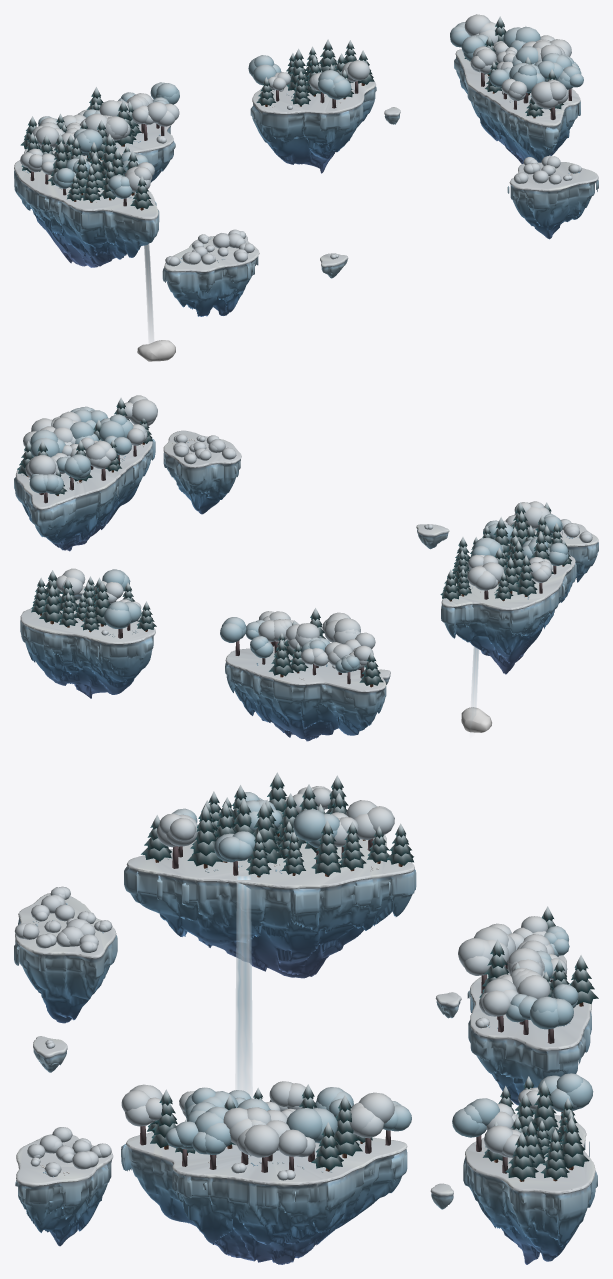
Rendered from icefloes.glb.
The picture shows the model from 3 angles, top to bottom: view 1: azimuth 30°, elevation 25°; view 2: azimuth 150°, elevation 25°; view 3: azimuth 270°, elevation 25°; orthographic projection. The views are drawn at different scales.
Visible parts, largest first — view 1: decor_leaves, decor_m06, decor_m01, decor_m07, decor_m03, decor_m04, decor_m00, decor_trunks, clouds, waterfall, decor_s00; view 2: decor_leaves, decor_m00, decor_m01, decor_m06, decor_m07, decor_m04, decor_m03, decor_trunks, clouds, decor_s00; view 3: decor_leaves, decor_m06, decor_m07, decor_m01, decor_m00, decor_m03, decor_m04, waterfall, decor_trunks, decor_s00.
Boxes of the visible parts, bbox=[...] form: decor_leaves: bbox=[20, 14, 583, 266]; decor_m06: bbox=[14, 147, 159, 267]; decor_m01: bbox=[250, 81, 376, 173]; decor_m07: bbox=[454, 49, 580, 163]; decor_m03: bbox=[162, 235, 259, 316]; decor_m04: bbox=[507, 162, 598, 239]; decor_m00: bbox=[24, 123, 175, 182]; decor_trunks: bbox=[30, 72, 571, 210]; clouds: bbox=[137, 340, 175, 361]; waterfall: bbox=[144, 244, 153, 342]; decor_s00: bbox=[320, 253, 348, 278]; decor_leaves: bbox=[17, 395, 592, 685]; decor_m00: bbox=[225, 641, 386, 741]; decor_m01: bbox=[20, 599, 155, 698]; decor_m06: bbox=[441, 532, 576, 674]; decor_m07: bbox=[14, 435, 155, 551]; decor_m04: bbox=[163, 430, 241, 514]; decor_m03: bbox=[505, 519, 598, 582]; decor_trunks: bbox=[27, 442, 564, 687]; clouds: bbox=[461, 707, 491, 732]; decor_s00: bbox=[416, 524, 449, 549]; decor_leaves: bbox=[14, 772, 598, 1180]; decor_m06: bbox=[124, 833, 416, 978]; decor_m07: bbox=[121, 1132, 407, 1264]; decor_m01: bbox=[463, 1114, 597, 1264]; decor_m00: bbox=[467, 955, 591, 1105]; decor_m03: bbox=[14, 893, 117, 1023]; decor_m04: bbox=[15, 1134, 113, 1246]; waterfall: bbox=[235, 876, 252, 1097]; decor_trunks: bbox=[140, 833, 583, 1181]; decor_s00: bbox=[33, 1036, 67, 1072].
Bounding box in the file's own units: 35.52 × 15.05 × 24.54.
